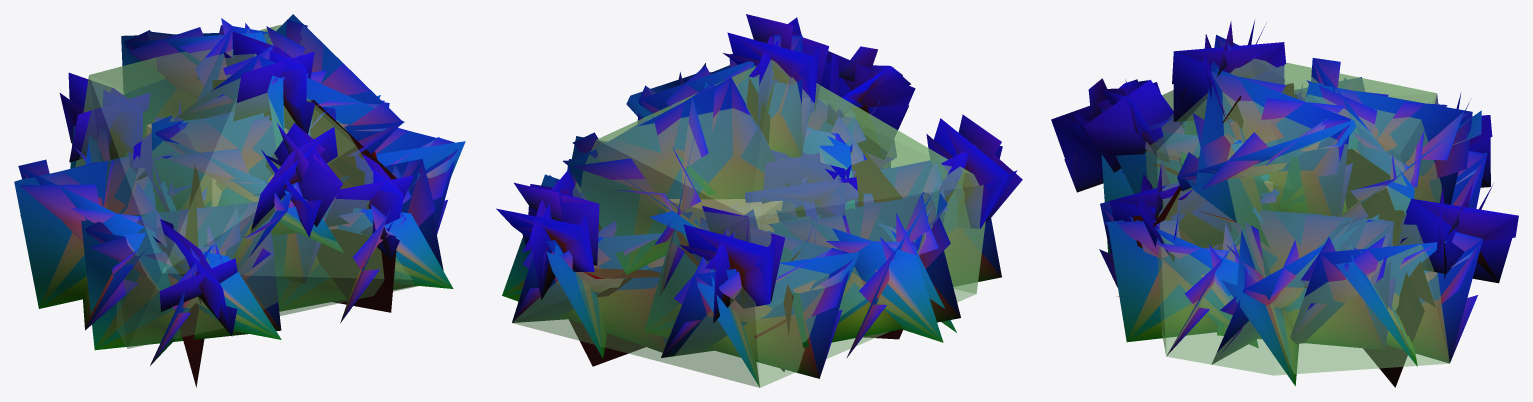
The model's file is scraggly_bush.dae.
3 views of the same model, side by side, from view 1: azimuth 30°, elevation 25°; view 2: azimuth 150°, elevation 25°; view 3: azimuth 270°, elevation 25° (orthographic).
Parts seen in each view (by area): view 1: scraggly_bush_a220, scraggly_bush_a900, Colmesh-1; view 2: scraggly_bush_a900, Colmesh-1, scraggly_bush_a220; view 3: scraggly_bush_a220, scraggly_bush_a900, Colmesh-1.
Boxes of the visible parts, left/top/right/bottom form: scraggly_bush_a220: left=14, top=14, right=465, bottom=365; scraggly_bush_a900: left=16, top=18, right=465, bottom=387; Colmesh-1: left=75, top=24, right=418, bottom=348; scraggly_bush_a900: left=498, top=14, right=1021, bottom=386; Colmesh-1: left=512, top=60, right=985, bottom=387; scraggly_bush_a220: left=496, top=18, right=1022, bottom=386; scraggly_bush_a220: left=1051, top=20, right=1517, bottom=387; scraggly_bush_a900: left=1051, top=21, right=1518, bottom=387; Colmesh-1: left=1145, top=58, right=1449, bottom=375.
Bounding box in the file's own units: 5.03 × 5.16 × 3.8.
